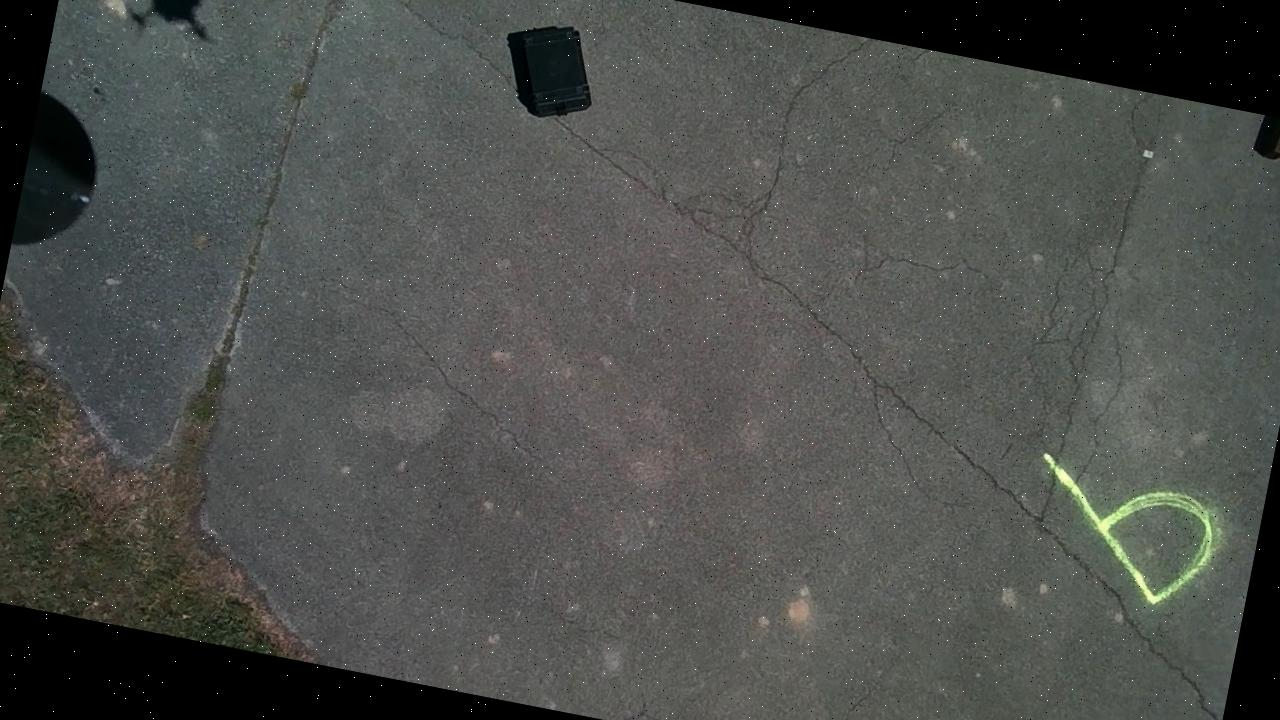rako: (494, 16, 604, 124)
